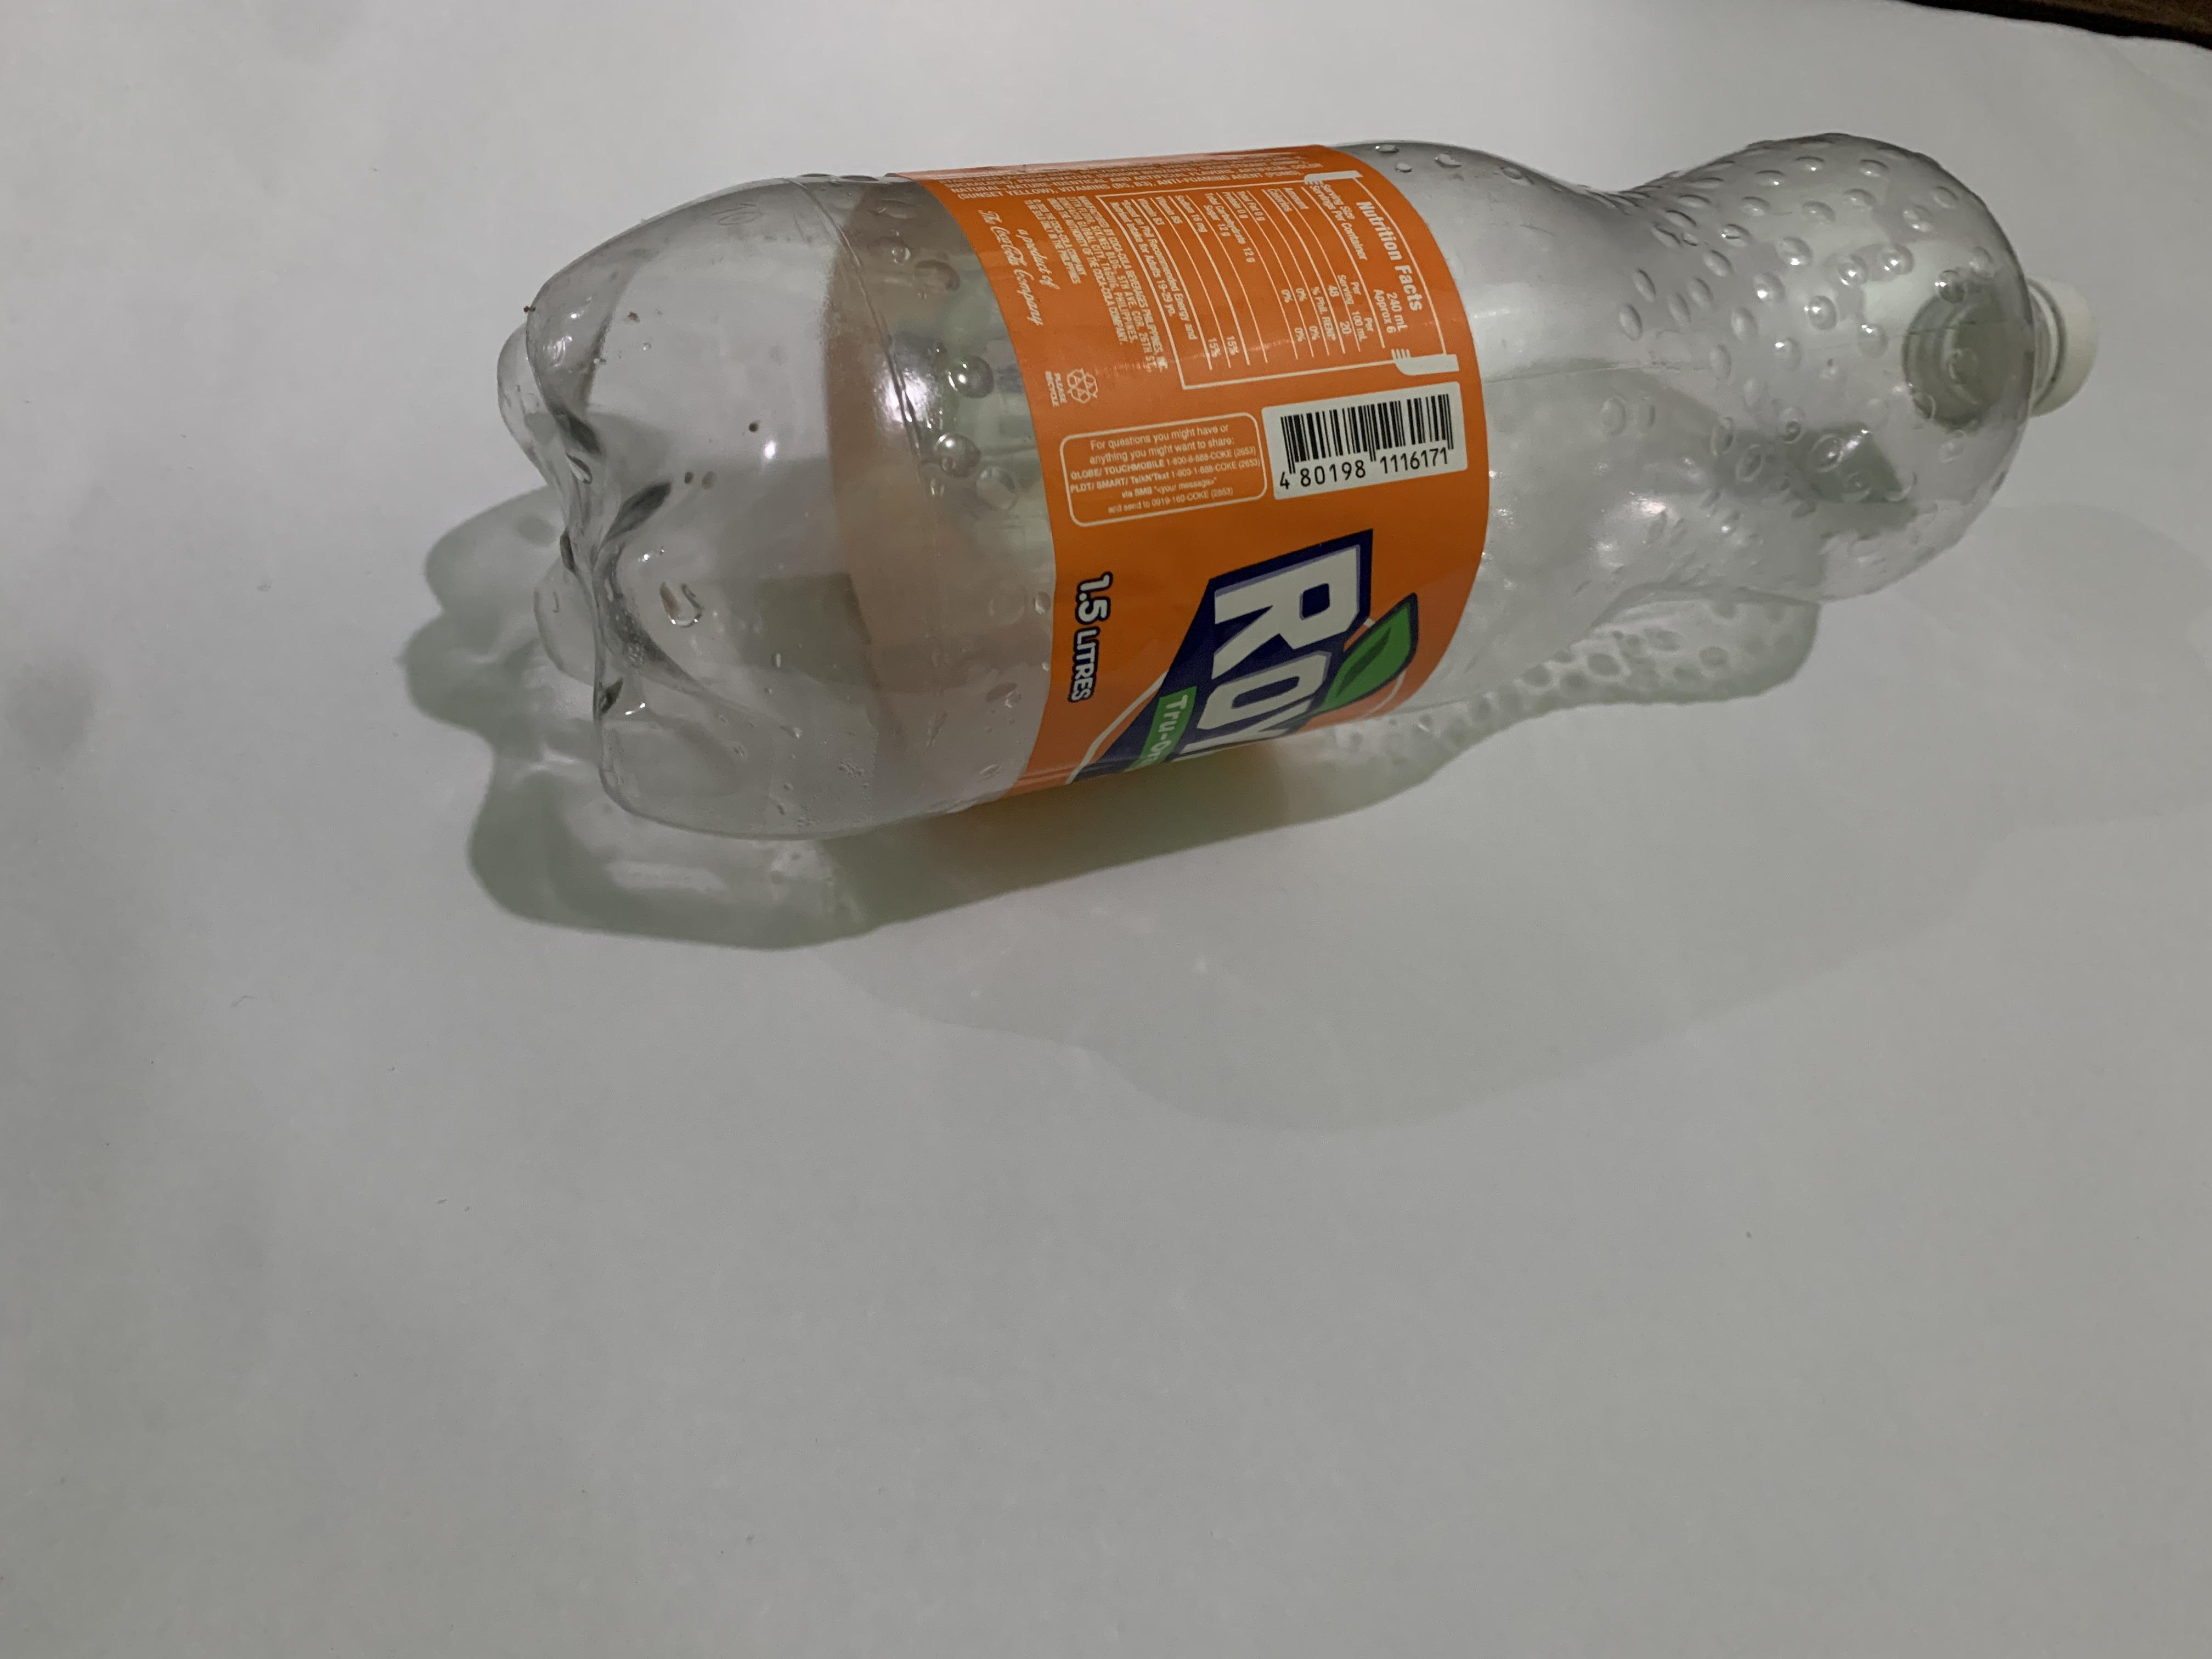bottle: (0, 125, 995, 845)
